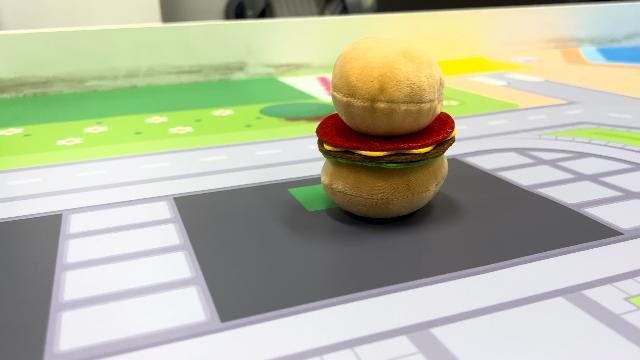burger: (312, 34, 460, 221)
